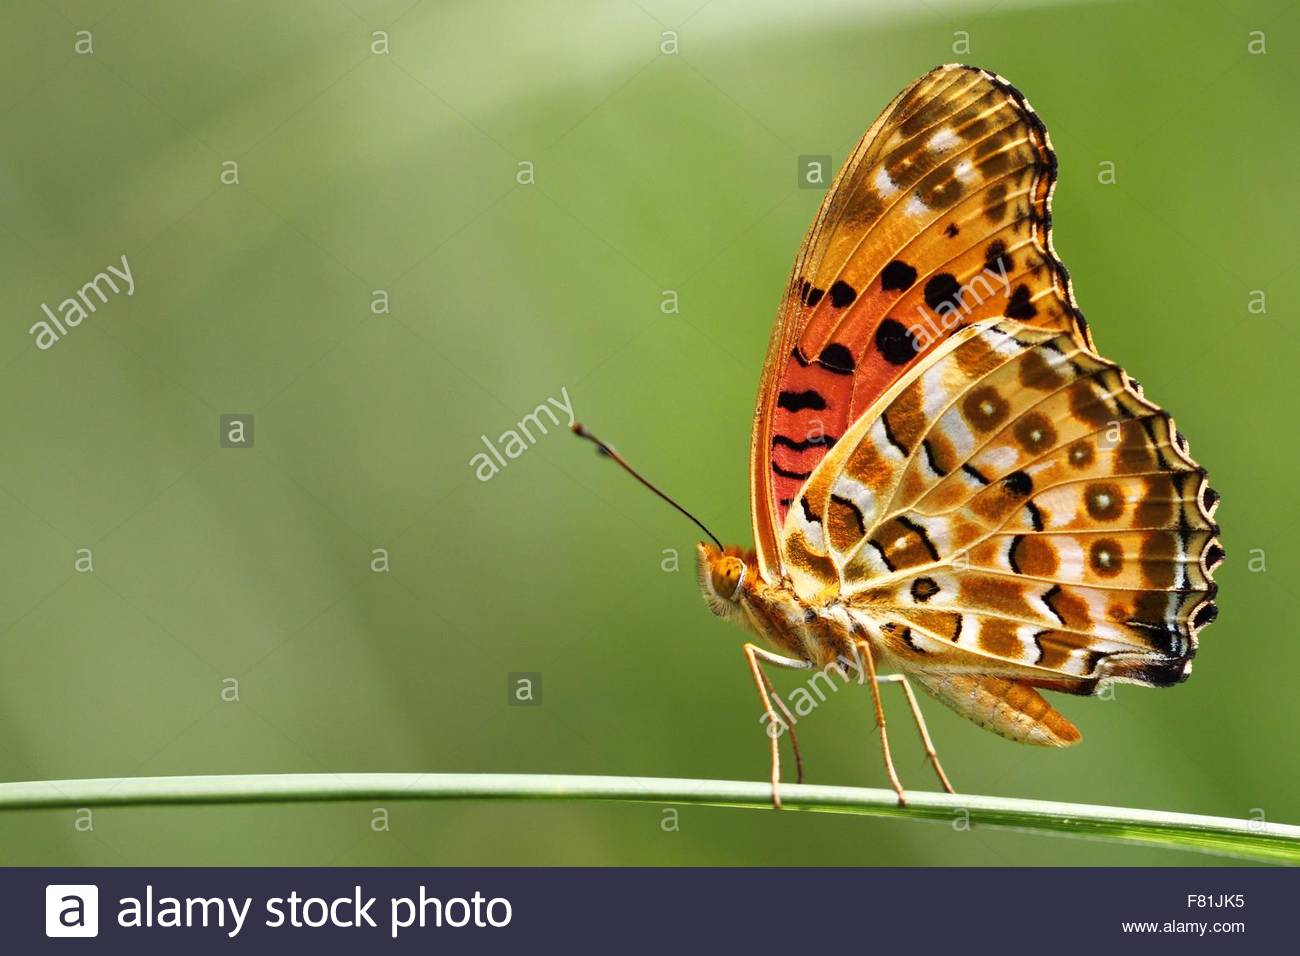Argyreus hyperbius: (570, 48, 1231, 827)
butterfly: (572, 50, 1233, 829)
